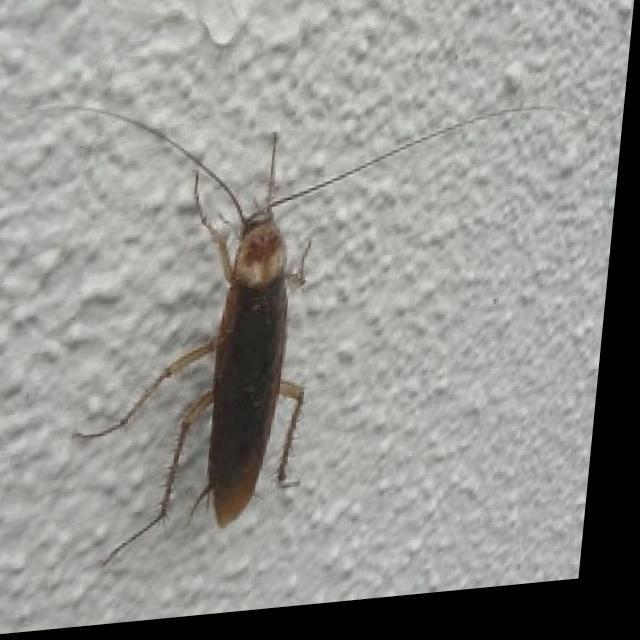cockroach: (104, 152, 323, 554)
